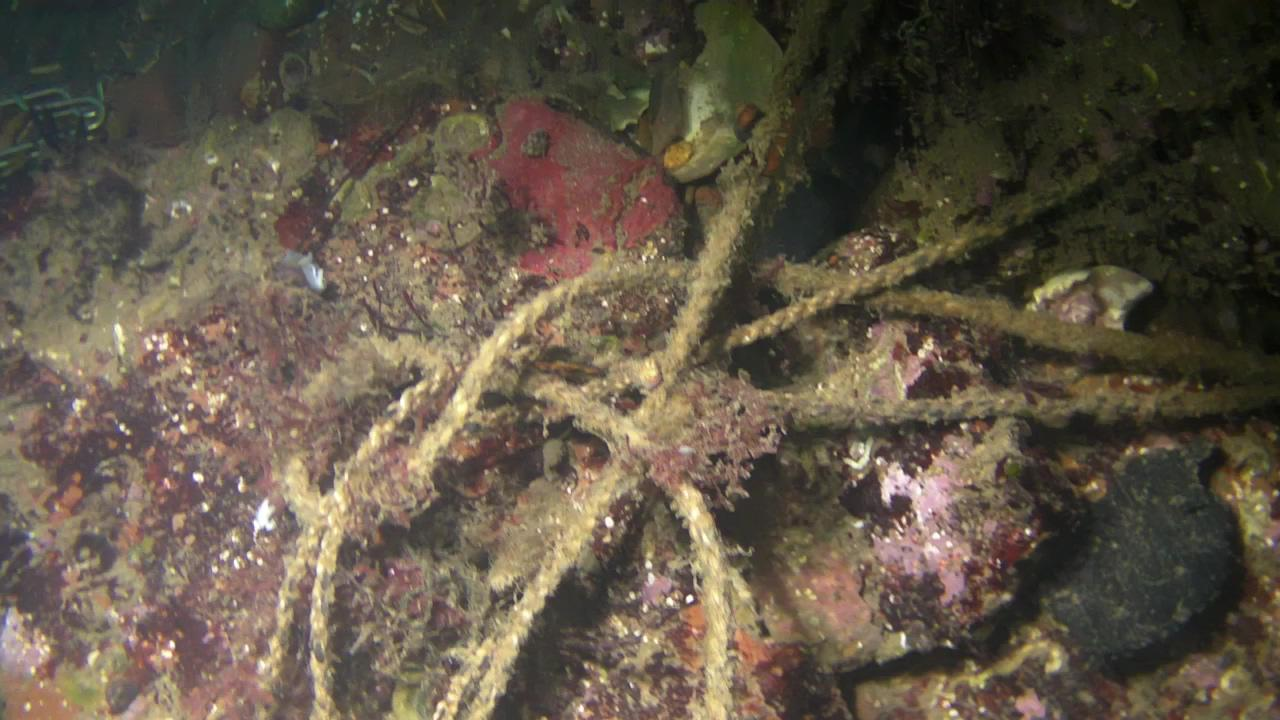bundle of ropes: (250, 0, 1280, 720)
